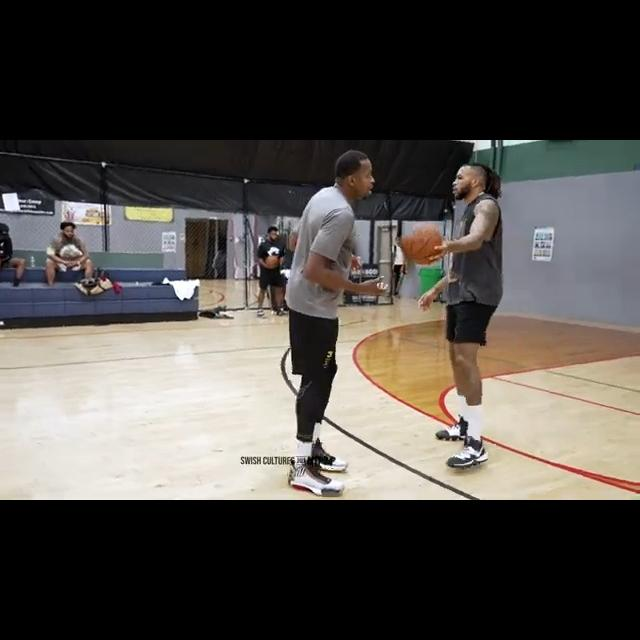basketball: (403, 223, 445, 268), (264, 255, 279, 269)
person: (288, 150, 377, 496), (418, 163, 504, 469), (43, 219, 97, 284), (254, 224, 289, 318), (0, 224, 25, 287), (387, 233, 407, 300)
